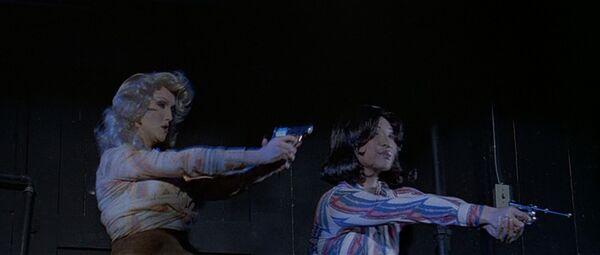Gun: (508, 201, 572, 222), (273, 123, 314, 144)
